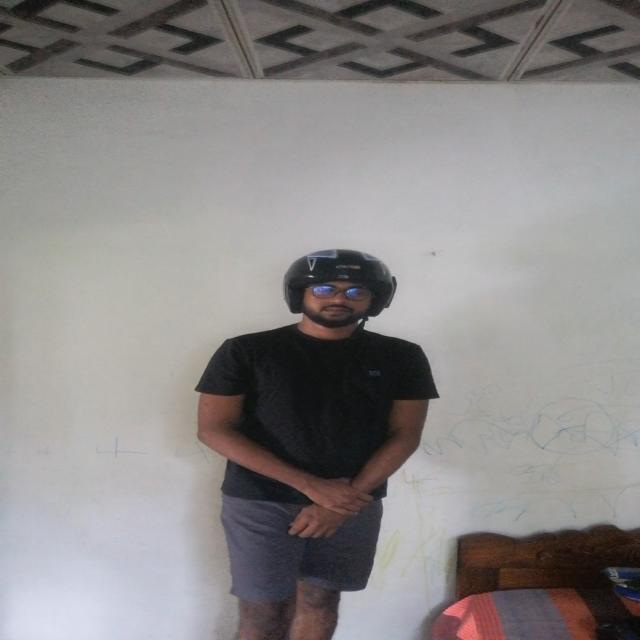Helmet_Wearer: (256, 239, 416, 364)
Person: (193, 237, 440, 628)
